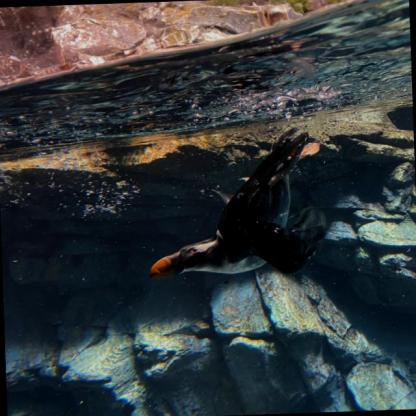puffin: (139, 127, 327, 284)
